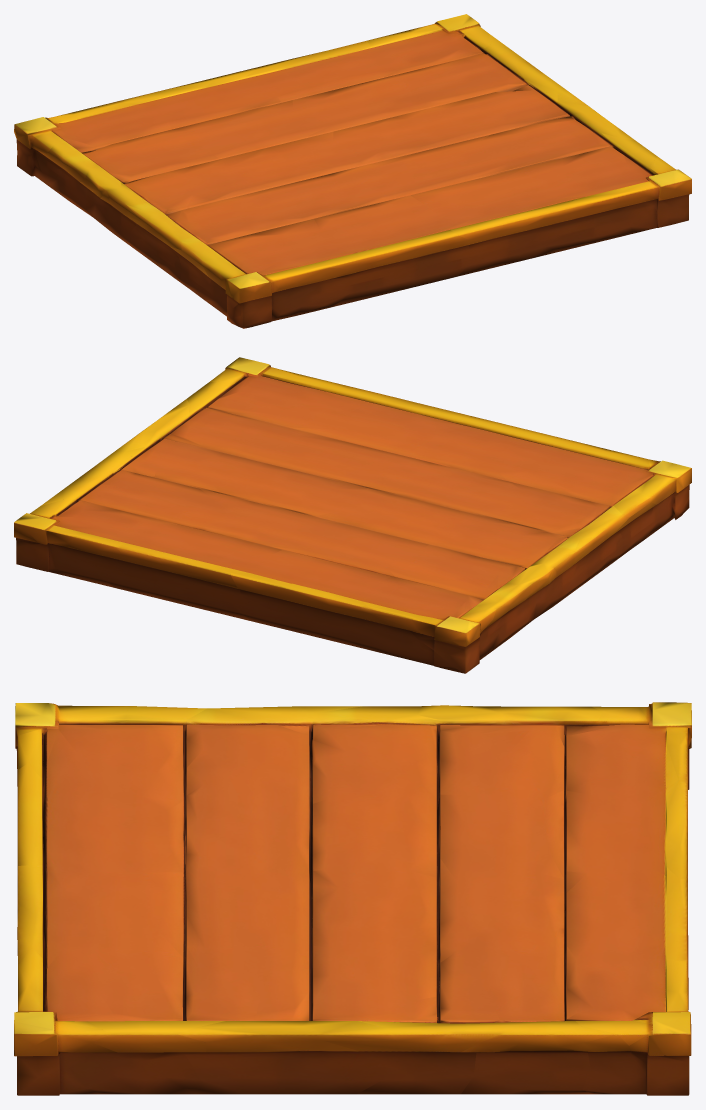
Rendered from throne-dais.glb.
3 views of the same model, one above another, from view 1: azimuth 30°, elevation 25°; view 2: azimuth 150°, elevation 25°; view 3: azimuth 270°, elevation 25° (orthographic). The views are drawn at different scales.
Visible parts, largest first — view 1: tripo_node_f885eae7-1f2b-4c86-bcd9-9564ca1c83a6; view 2: tripo_node_f885eae7-1f2b-4c86-bcd9-9564ca1c83a6; view 3: tripo_node_f885eae7-1f2b-4c86-bcd9-9564ca1c83a6.
Part boxes in pixels (bbox=[...]): tripo_node_f885eae7-1f2b-4c86-bcd9-9564ca1c83a6: bbox=[14, 14, 691, 328]; tripo_node_f885eae7-1f2b-4c86-bcd9-9564ca1c83a6: bbox=[14, 357, 691, 673]; tripo_node_f885eae7-1f2b-4c86-bcd9-9564ca1c83a6: bbox=[14, 702, 691, 1095].
Bounding box in the file's own units: 1.1 × 0.1 × 0.95.
1 material, 1 textured.
